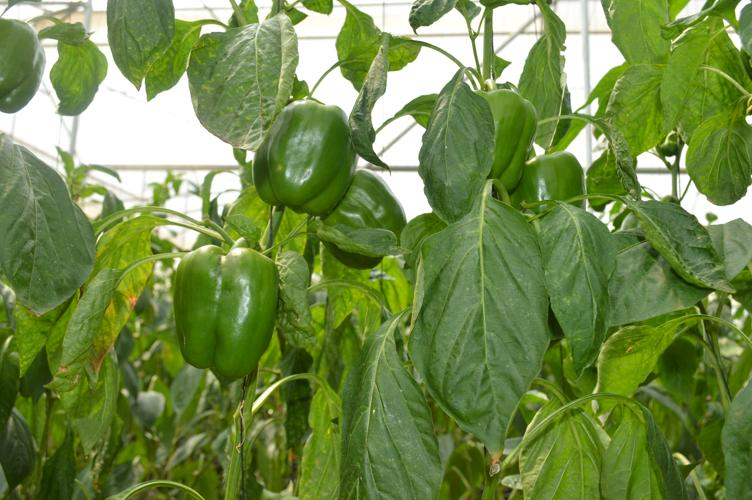BellPepper: (173, 247, 281, 382), (236, 101, 348, 216), (318, 171, 403, 268), (470, 91, 533, 191), (2, 19, 45, 113), (519, 154, 584, 212)
